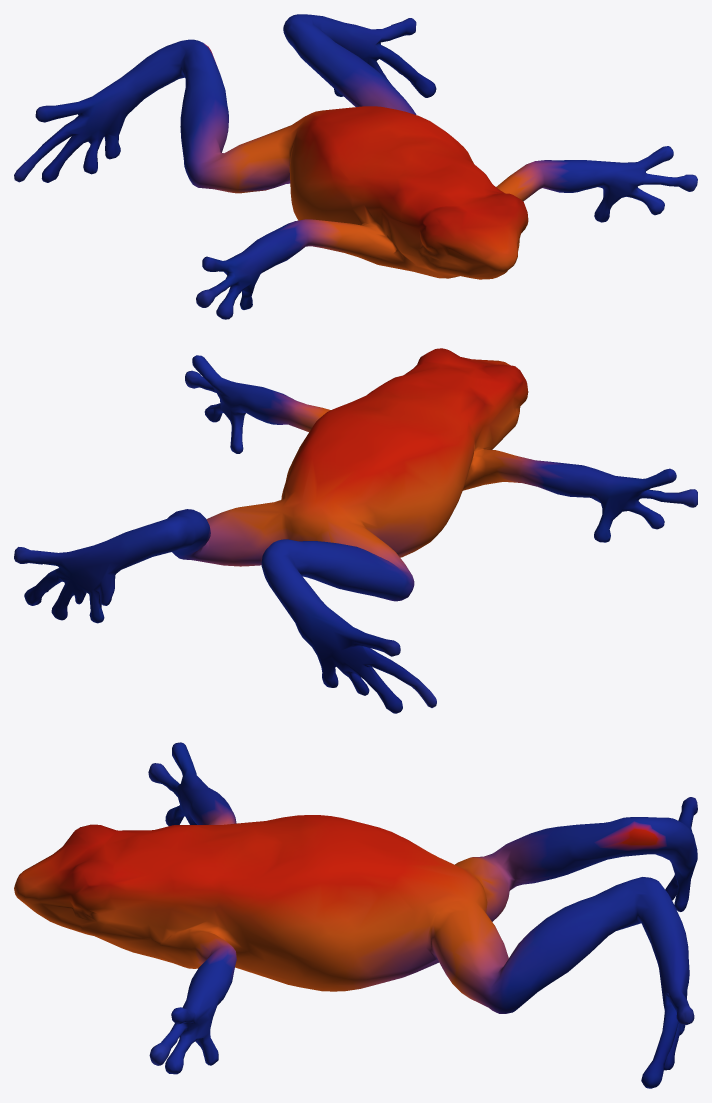
Rendered from strawberry.swim.lo.glb.
3 views of the same model, one above another, from view 1: azimuth 30°, elevation 25°; view 2: azimuth 150°, elevation 25°; view 3: azimuth 270°, elevation 25° (orthographic). The views are drawn at different scales.
Visible parts, largest first — view 1: strawberry.swim; view 2: strawberry.swim; view 3: strawberry.swim.
Part boxes in pixels (left/top/right/bottom): strawberry.swim: left=14, top=14, right=697, bottom=319; strawberry.swim: left=14, top=348, right=697, bottom=713; strawberry.swim: left=14, top=742, right=697, bottom=1088.
Size of the model in its own units: 0.0335 by 0.00841 by 0.0338.
